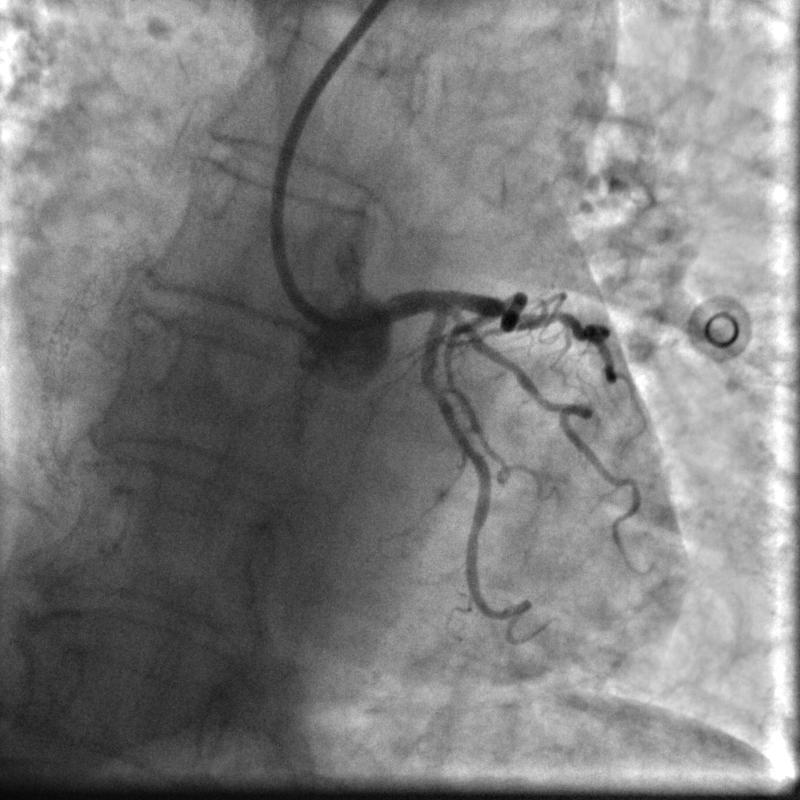Stenosis: (419, 378, 448, 401)
